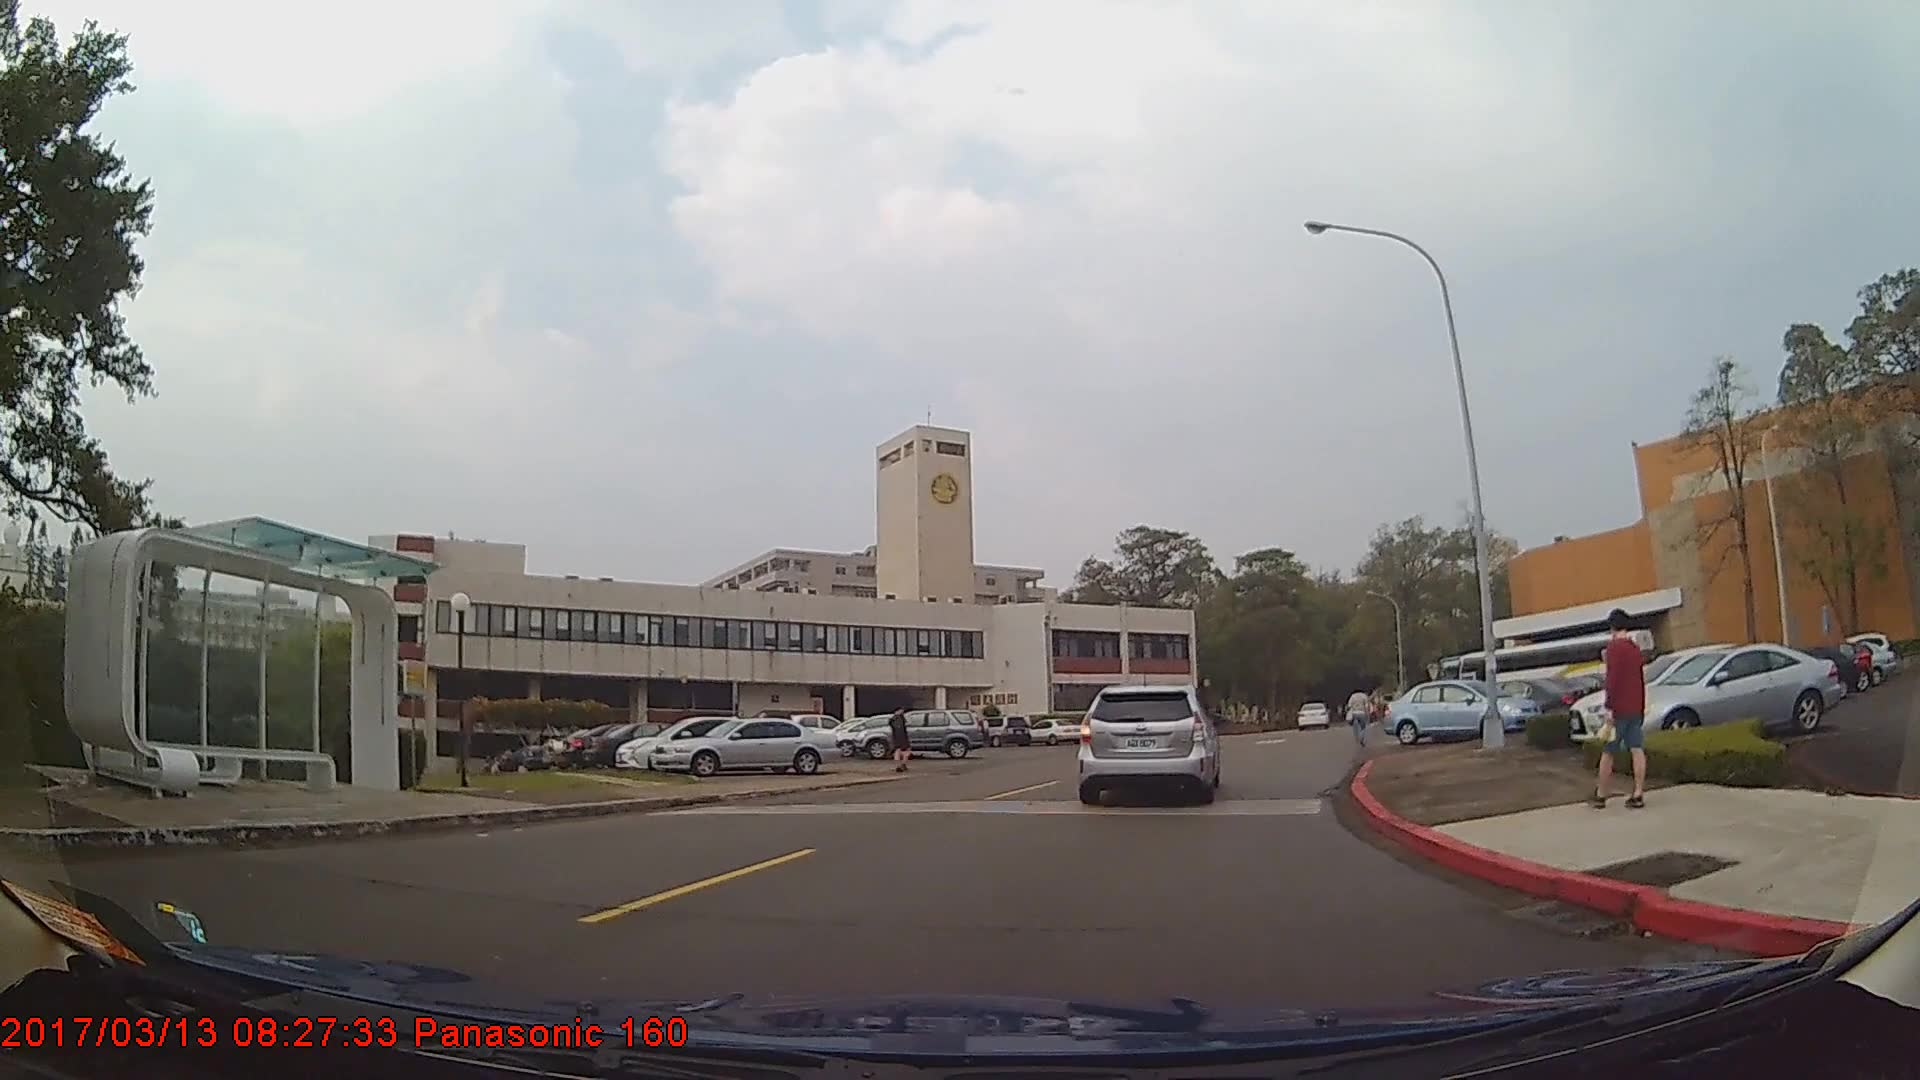pedestrian: (1596, 607, 1654, 817), (888, 704, 917, 775), (1348, 680, 1375, 747)
vehicle: (1567, 643, 1800, 741), (1610, 642, 1842, 740), (1077, 684, 1218, 806), (648, 715, 841, 774), (612, 711, 800, 768), (1380, 675, 1538, 741), (581, 719, 719, 772), (855, 706, 984, 757), (968, 712, 1032, 746), (1296, 694, 1330, 726)
